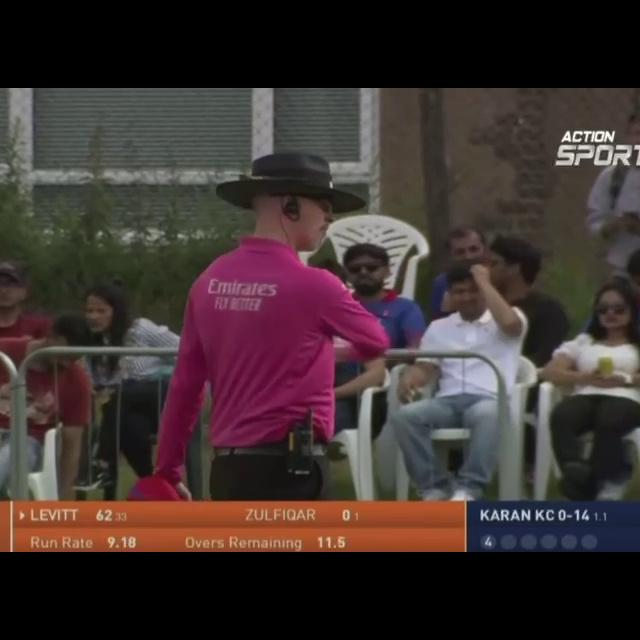umpire: (54, 134, 522, 500)
